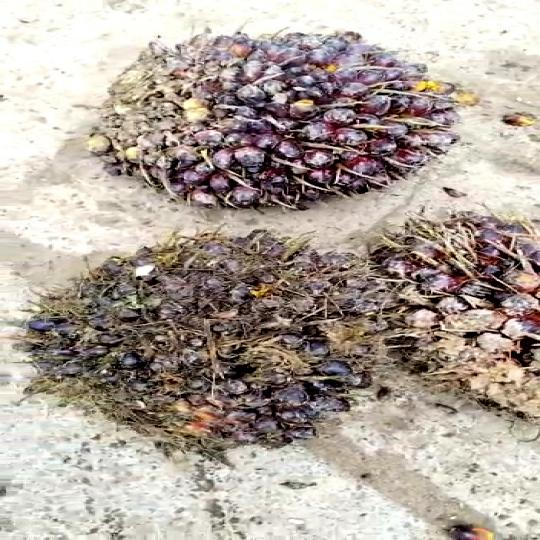kurang masak: (93, 29, 469, 203)
